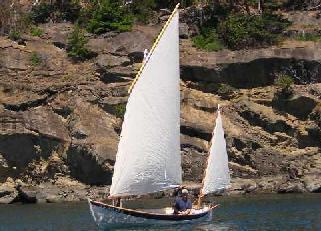Ship: (88, 3, 233, 227)
